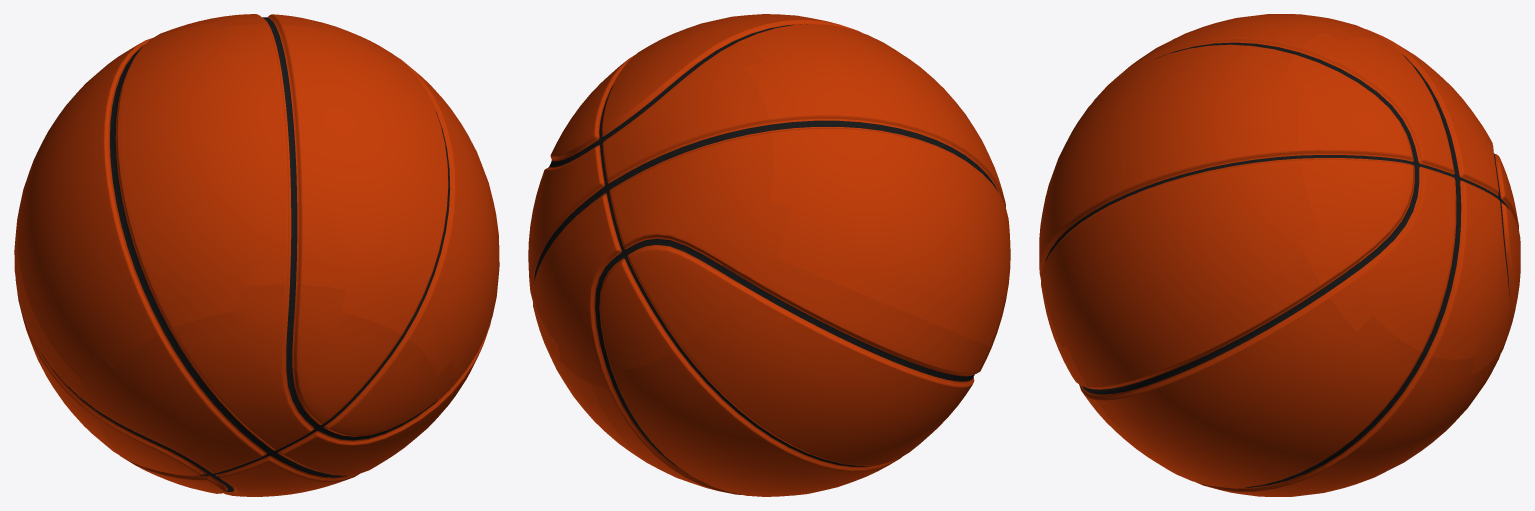
The model's file is Basketball ball N220909.fbx.
3 renders of one model, left to right at view 1: azimuth 30°, elevation 25°; view 2: azimuth 150°, elevation 25°; view 3: azimuth 270°, elevation 25°, orthographic.
Visible parts, largest first — view 1: Sphere01; view 2: Sphere01; view 3: Sphere01.
Part boxes in pixels (x1=…): Sphere01: x1=14, y1=14, x2=499, y2=496; Sphere01: x1=528, y1=14, x2=1010, y2=496; Sphere01: x1=1039, y1=14, x2=1520, y2=496.
Bounding box in the file's own units: 141 × 141 × 141.
